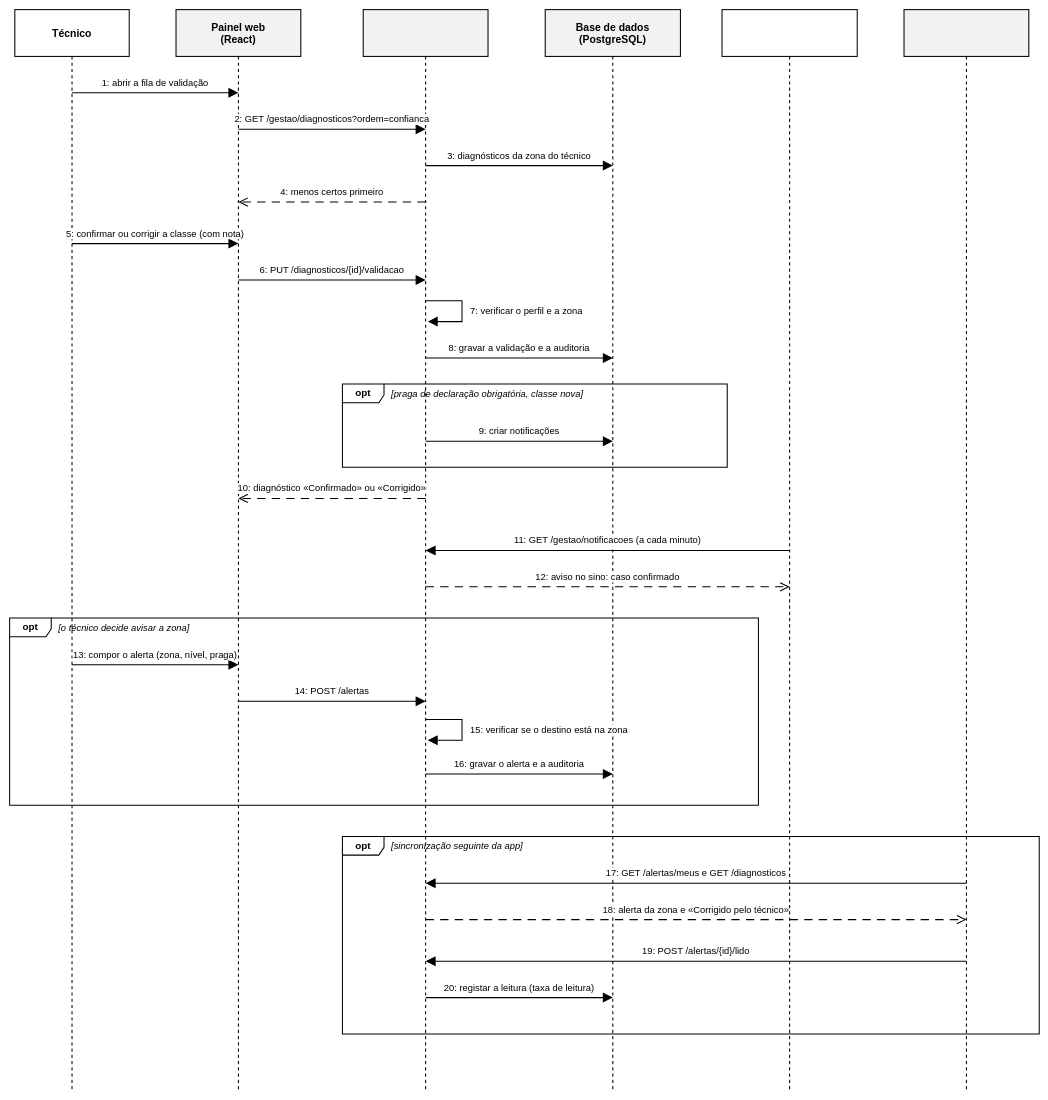
Image size: 1048x1100. Some labels were removed from this diagram. The shapes that lost their labels are listed below. From the top down, each one's box as (x1, y1, x2, y2) in pixels, then its label:
(362, 9, 488, 1091): API (FastAPI)
(721, 9, 857, 1091): Coordenador / administrador
(903, 9, 1029, 1091): App do agricultor
